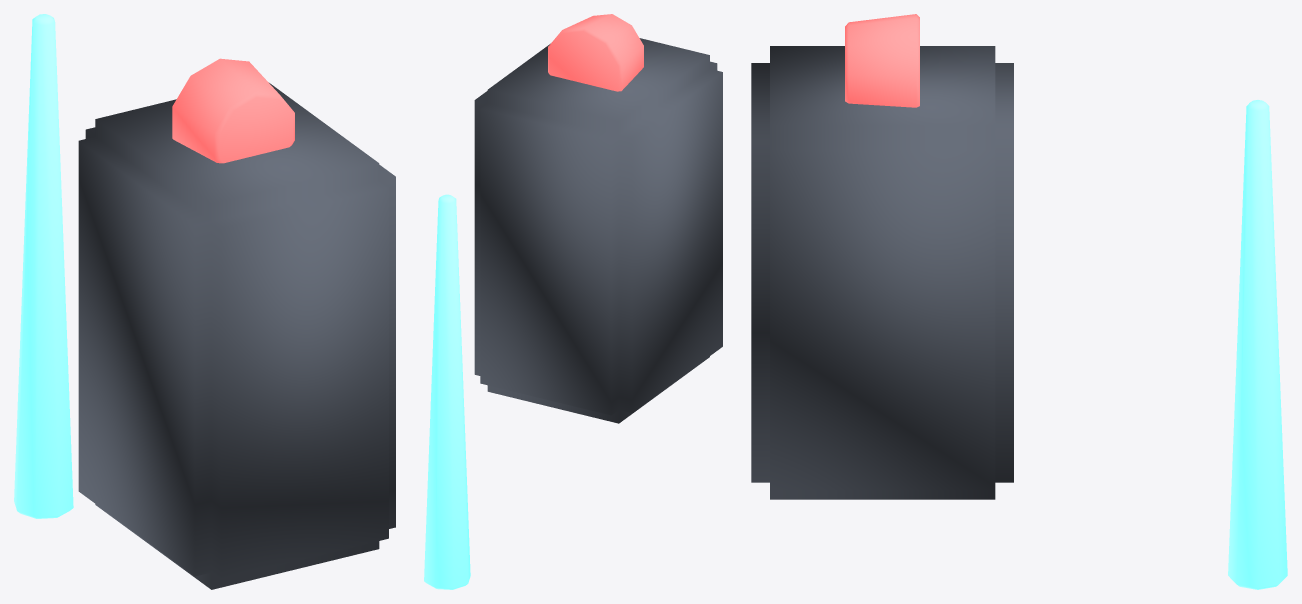
The model's file is sensor_pod.glb.
The picture shows the model from 3 angles, left to right: view 1: azimuth 30°, elevation 25°; view 2: azimuth 150°, elevation 25°; view 3: azimuth 270°, elevation 25°; orthographic projection. The views are drawn at different scales.
Visible parts, largest first — view 1: sensor_pod; view 2: sensor_pod; view 3: sensor_pod.
Boxes of the visible parts, x1,y1,x2,y2 form: sensor_pod: (14,14,395,589); sensor_pod: (424,14,722,589); sensor_pod: (751,14,1287,589).
Size of the model in its own units: 0.12 by 0.3298 by 0.2859.
